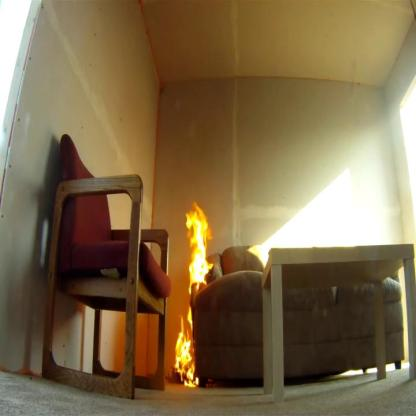fire: (172, 199, 216, 392)
